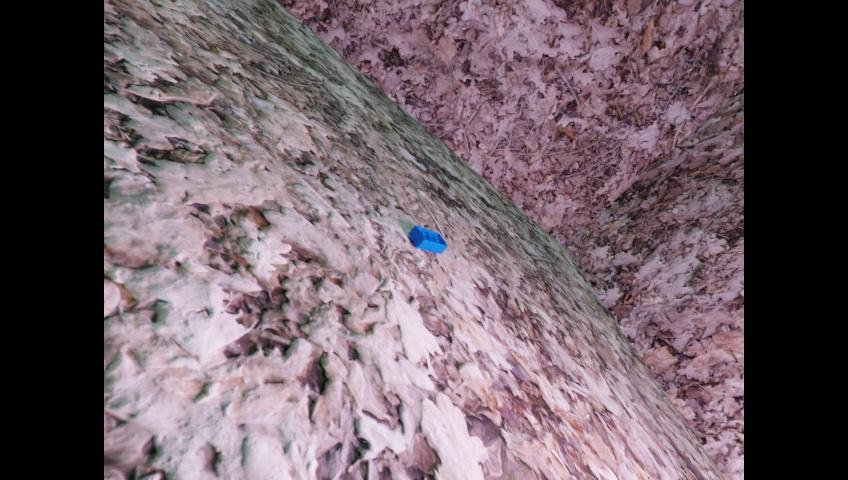4x2_blue: (408, 225, 447, 253)
